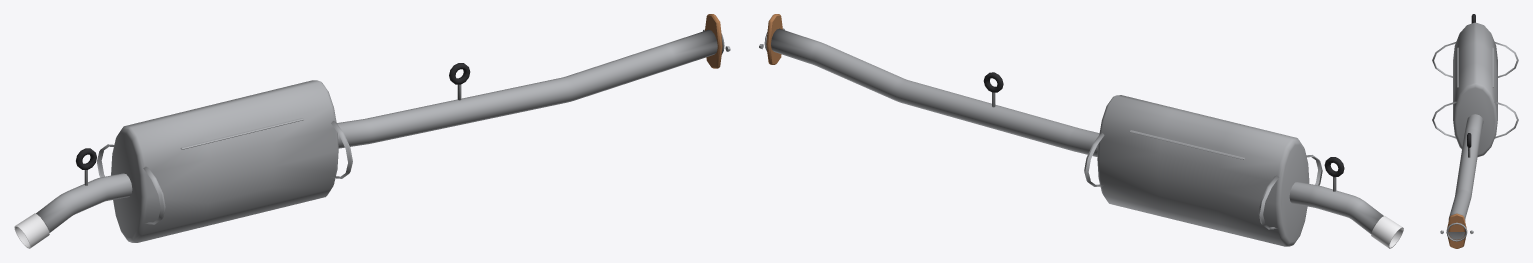
The model's file is exh_stock.glb.
3 renders of one model, left to right at view 1: azimuth 30°, elevation 25°; view 2: azimuth 150°, elevation 25°; view 3: azimuth 270°, elevation 25°, orthographic. The views are drawn at different scales.
Visible parts, largest first — view 1: PART; view 2: PART; view 3: PART.
Boxes of the visible parts, bbox=[...] form: PART: bbox=[14, 14, 730, 248]; PART: bbox=[759, 14, 1403, 248]; PART: bbox=[1432, 14, 1518, 248].
Bounding box in the file's own units: 1.68 × 0.2676 × 0.2808.
